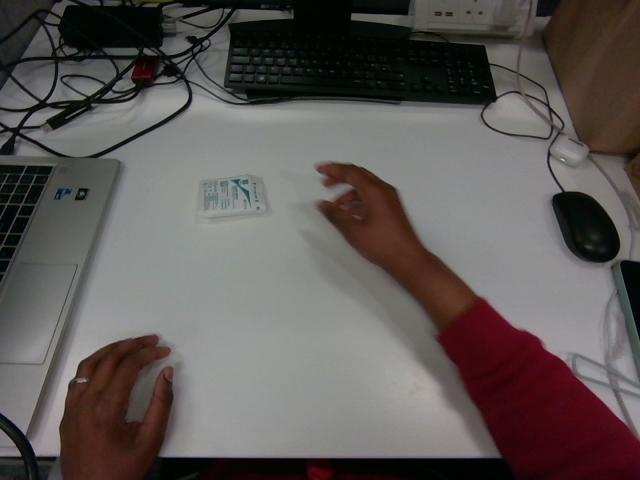gauze: (198, 175, 266, 218)
